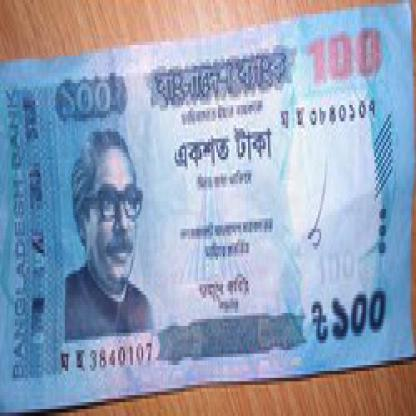one hundred taka: (301, 31, 384, 90), (324, 281, 398, 346), (58, 73, 116, 125)
